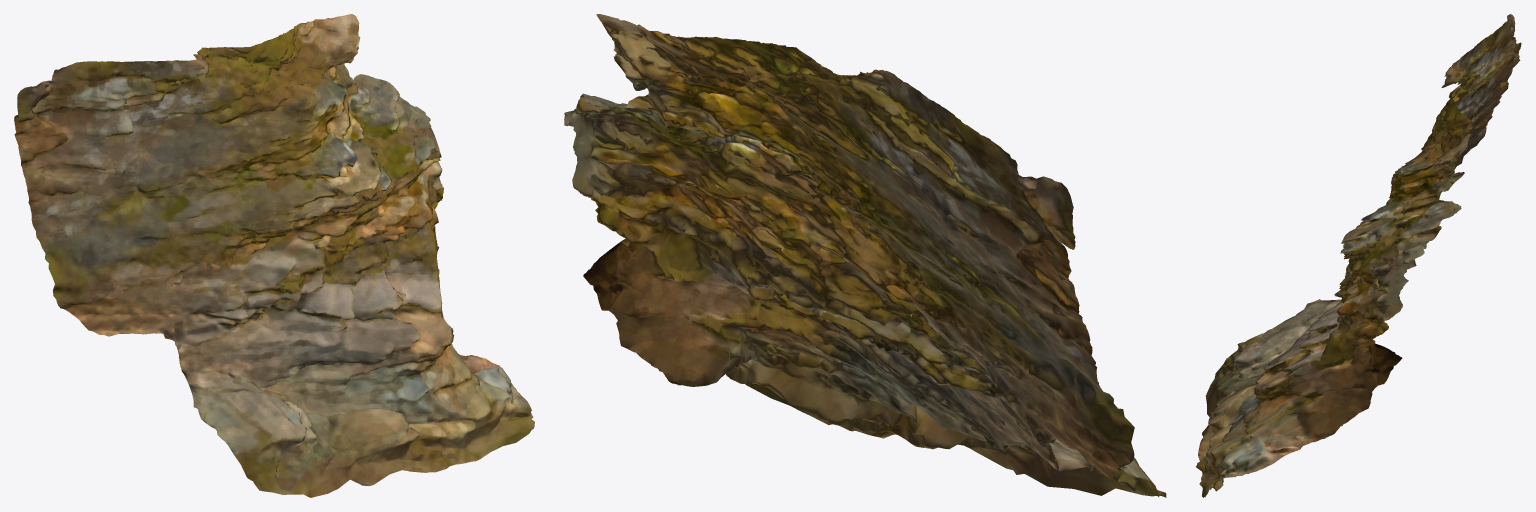
Rendered from rock_face_02.gltf.
3 renders of one model, left to right at view 1: azimuth 30°, elevation 25°; view 2: azimuth 150°, elevation 25°; view 3: azimuth 270°, elevation 25°, orthographic. The views are drawn at different scales.
Parts seen in each view (by area): view 1: rock_face_02; view 2: rock_face_02; view 3: rock_face_02.
Part boxes in pixels (x1=…): rock_face_02: x1=14, y1=14, x2=534, y2=497; rock_face_02: x1=564, y1=14, x2=1166, y2=497; rock_face_02: x1=1196, y1=14, x2=1521, y2=497.
Size of the model in its own units: 2.71 by 2.47 by 2.13.
1 material, 1 textured.
